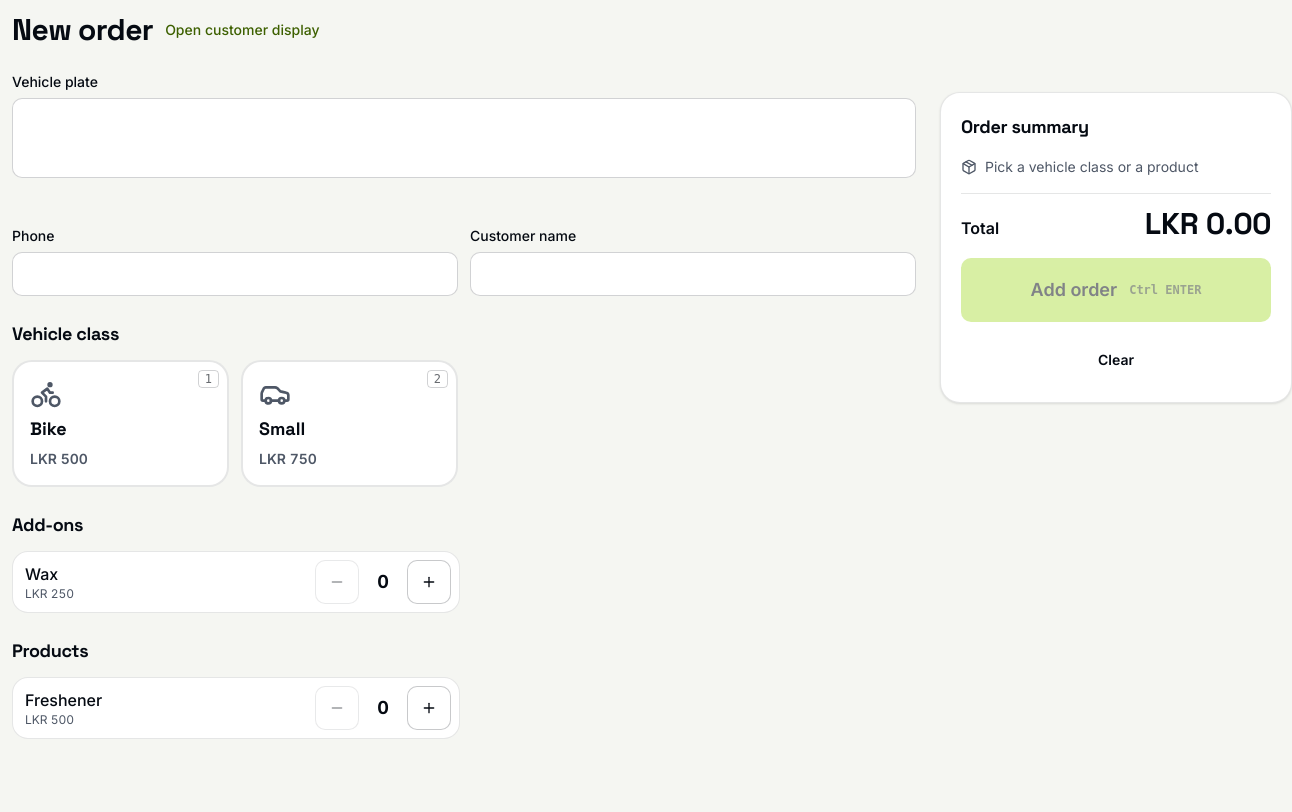
NewOrderPage › explains why an add-on alone cannot be ordered
Step 1. Type "X1" into the dropdown labelled "Vehicle plate" → (464, 138), box [12,98,916,178]
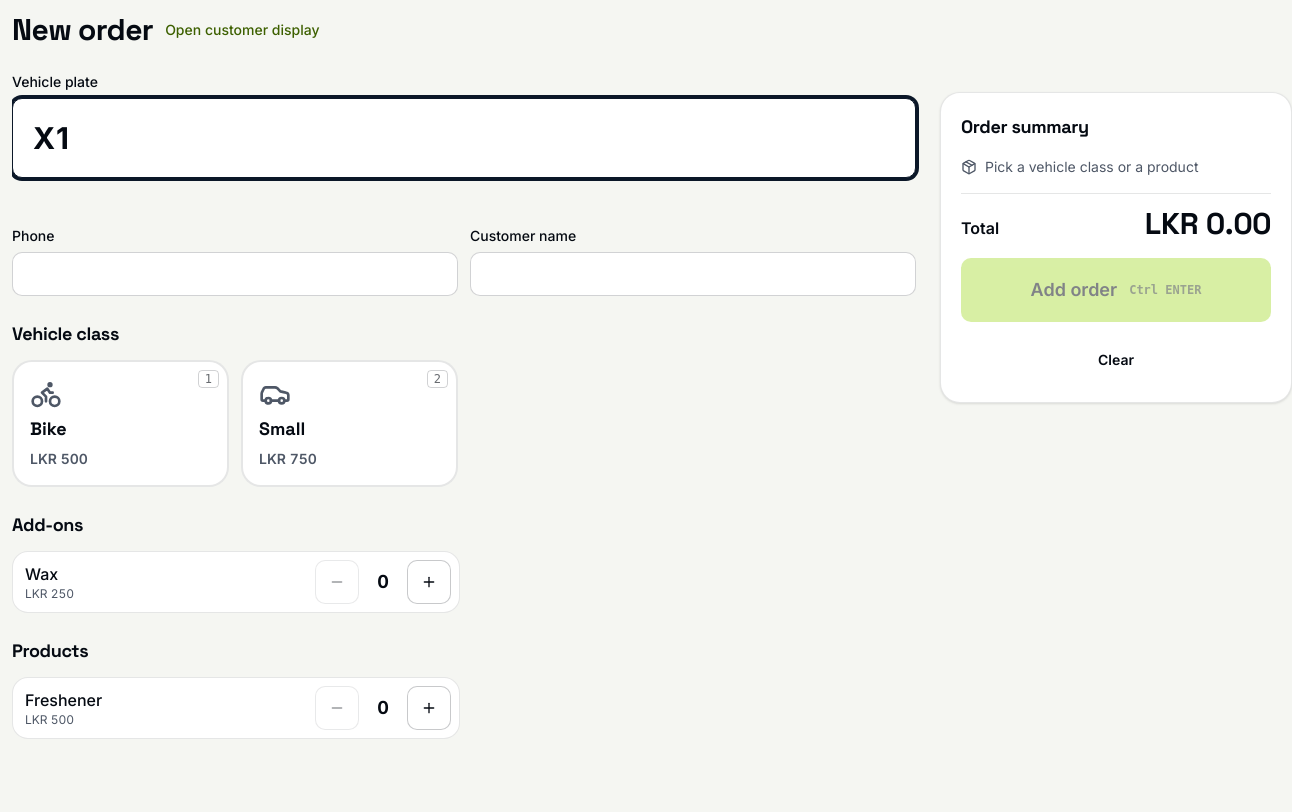
Step 2. Click the button named "Increase" in the row of "LKR 250" → (429, 582), box [407,560,451,604]
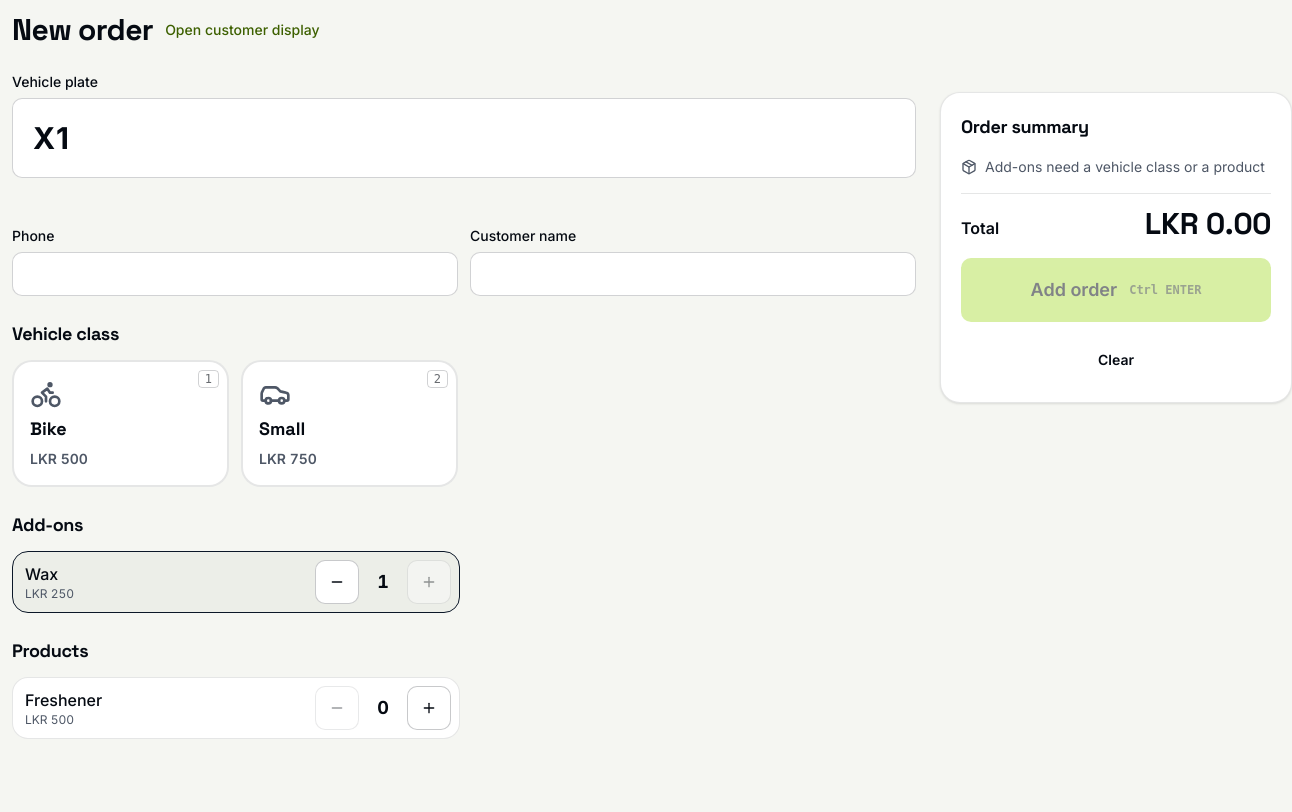
Expected: the button "Add order Ctrl ENTER" is disabled, [961,258,1271,322]
Result: the text "Add-ons need a vehicle class or a product" is shown at [961,157,1271,177]
